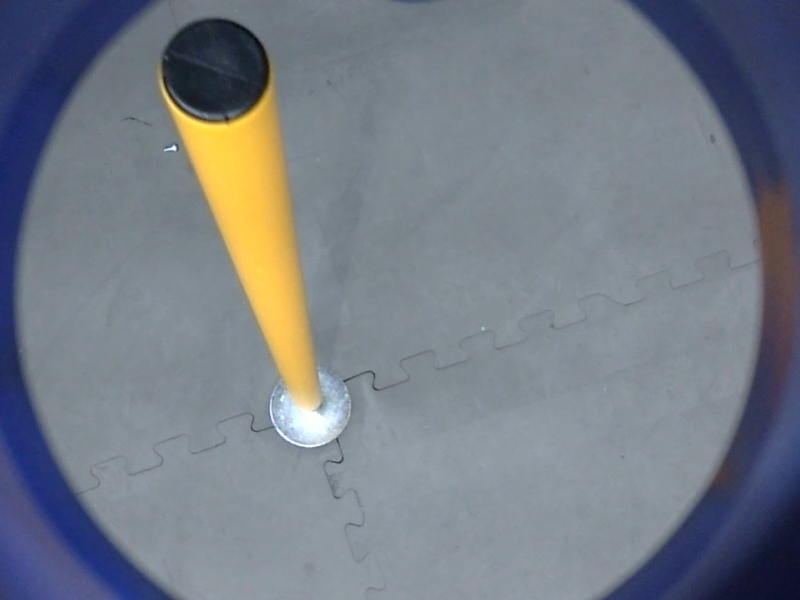tip: (152, 11, 277, 134)
